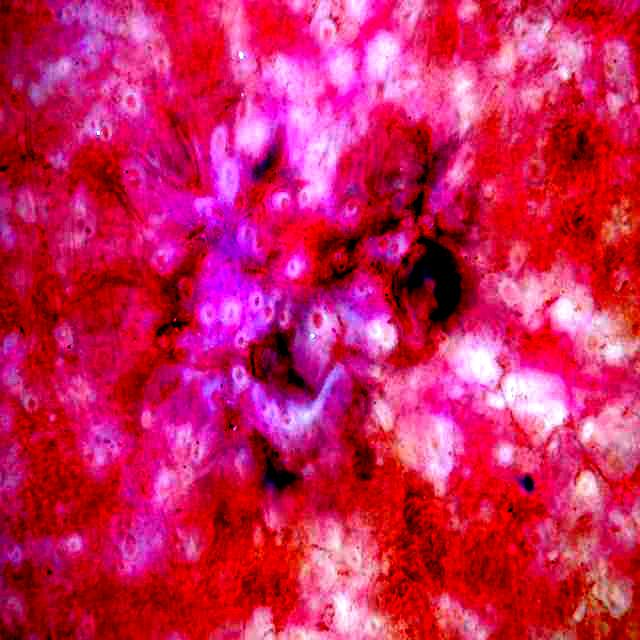AKIEC: (155, 95, 468, 469)
